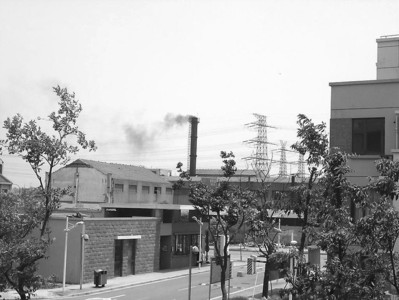dust: (149, 103, 201, 125)
